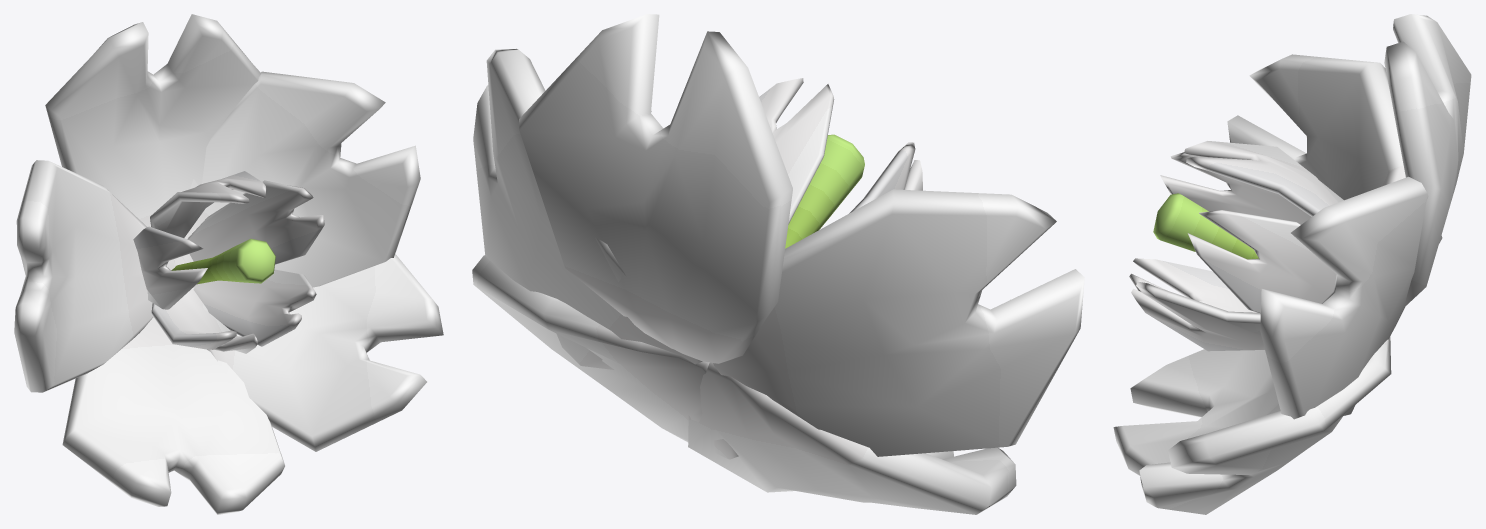
Rendered from SM_GibraltarCampion_Flower.fbx.
3 renders of one model, left to right at view 1: azimuth 30°, elevation 25°; view 2: azimuth 150°, elevation 25°; view 3: azimuth 270°, elevation 25°, orthographic. The views are drawn at different scales.
Visible parts, largest first — view 1: SM_GibraltarCampion_Flower; view 2: SM_GibraltarCampion_Flower; view 3: SM_GibraltarCampion_Flower.
Part boxes in pixels (left/top/right/bottom): SM_GibraltarCampion_Flower: left=14, top=14, right=443, bottom=514; SM_GibraltarCampion_Flower: left=472, top=14, right=1084, bottom=514; SM_GibraltarCampion_Flower: left=1113, top=14, right=1471, bottom=514.
Bounding box in the file's own units: 55.51 × 51.2 × 35.2.
1 material, 1 textured.
